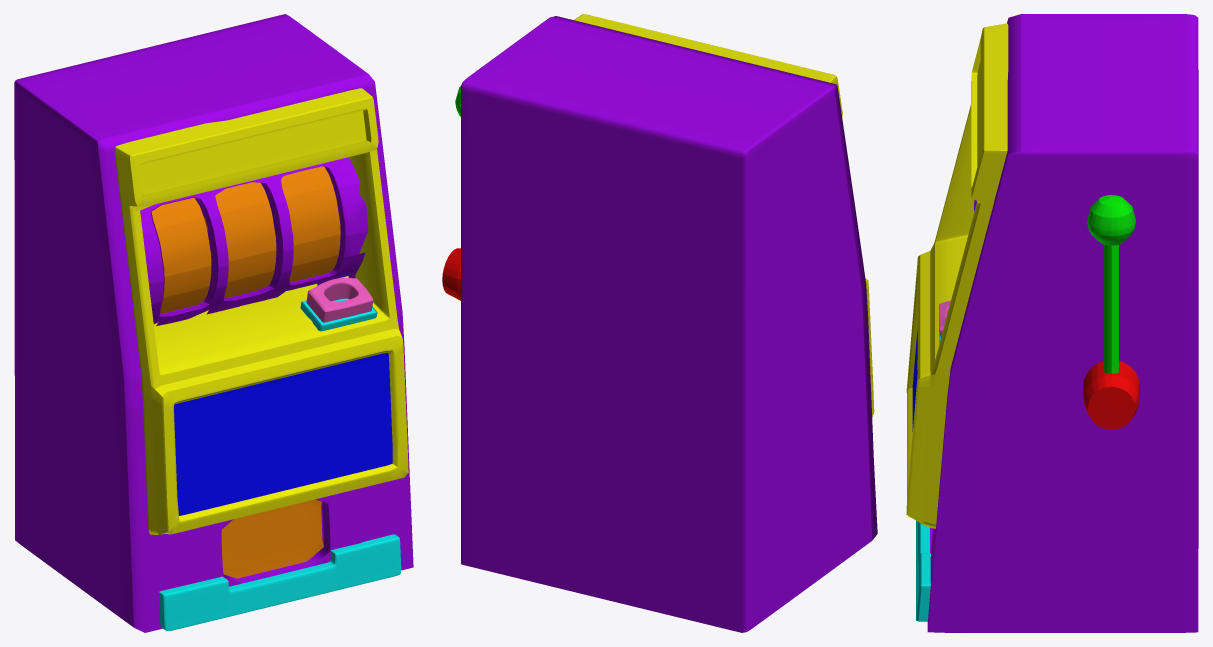
The model's file is slot_machine.fbx.
3 renders of one model, left to right at view 1: azimuth 30°, elevation 25°; view 2: azimuth 150°, elevation 25°; view 3: azimuth 270°, elevation 25°, orthographic. The views are drawn at different scales.
Visible parts, largest first — view 1: polySurface122, polySurface123, polySurface128, polySurface124, polySurface130, polySurface129; view 2: polySurface122, polySurface123, polySurface125; view 3: polySurface122, polySurface123, polySurface126, polySurface125, polySurface124.
Part boxes in pixels (x1,y1,x2,y2): polySurface122: [14, 14, 413, 632]; polySurface123: [114, 88, 408, 534]; polySurface128: [140, 157, 368, 325]; polySurface124: [159, 534, 401, 630]; polySurface130: [306, 278, 373, 322]; polySurface129: [300, 298, 377, 331]; polySurface122: [461, 16, 877, 632]; polySurface123: [574, 14, 874, 416]; polySurface125: [442, 248, 460, 300]; polySurface122: [927, 14, 1198, 632]; polySurface123: [906, 23, 1008, 528]; polySurface126: [1087, 195, 1136, 373]; polySurface125: [1083, 360, 1140, 429]; polySurface124: [916, 521, 930, 621].
Bounding box in the file's own units: 57.37 × 78.48 × 43.11.
